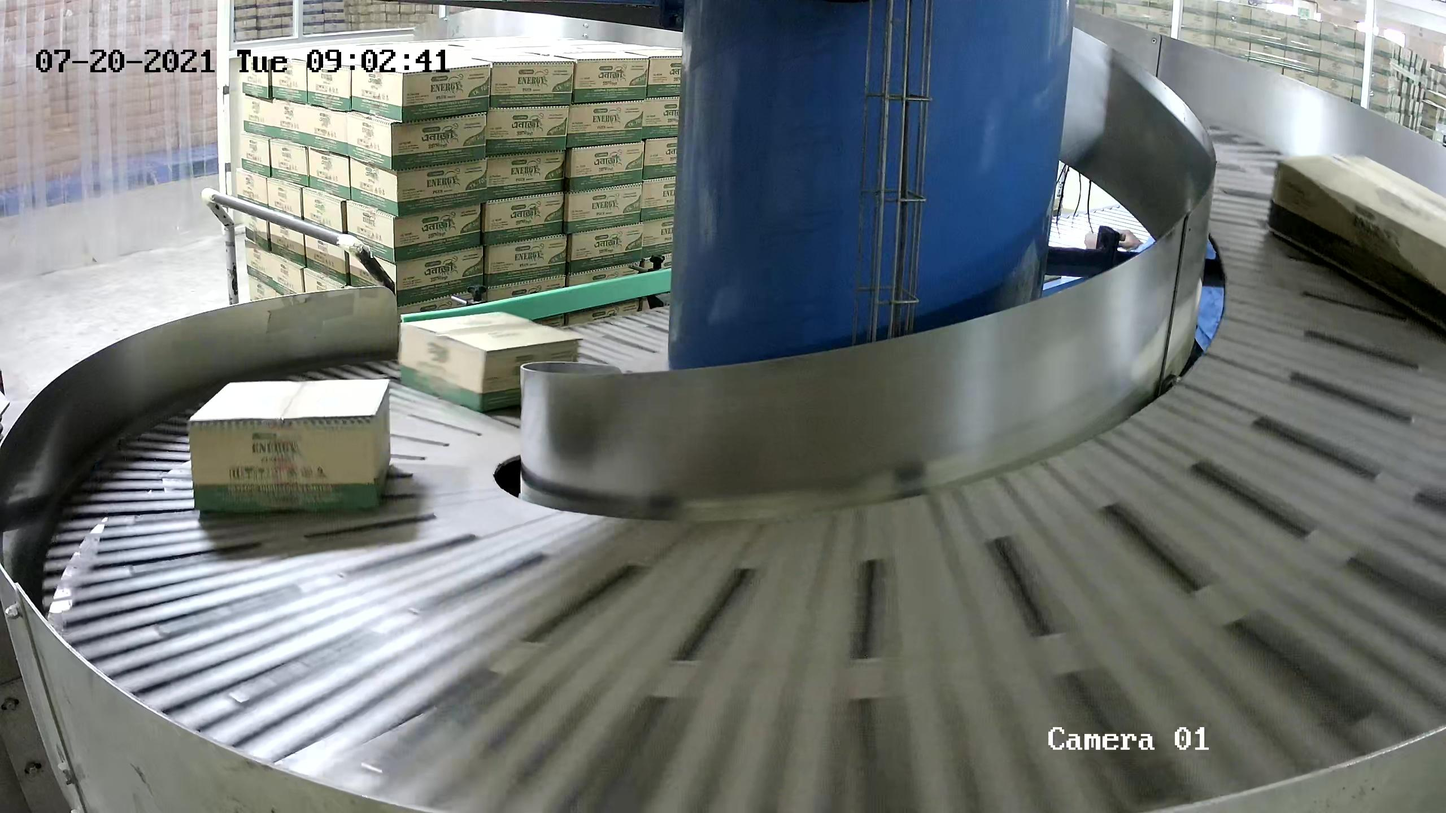Box: (1264, 152, 1446, 332), (186, 377, 392, 513), (397, 310, 585, 412)
